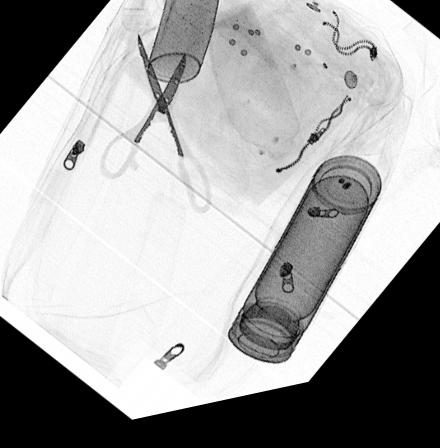Scissors: (96, 37, 213, 222)
